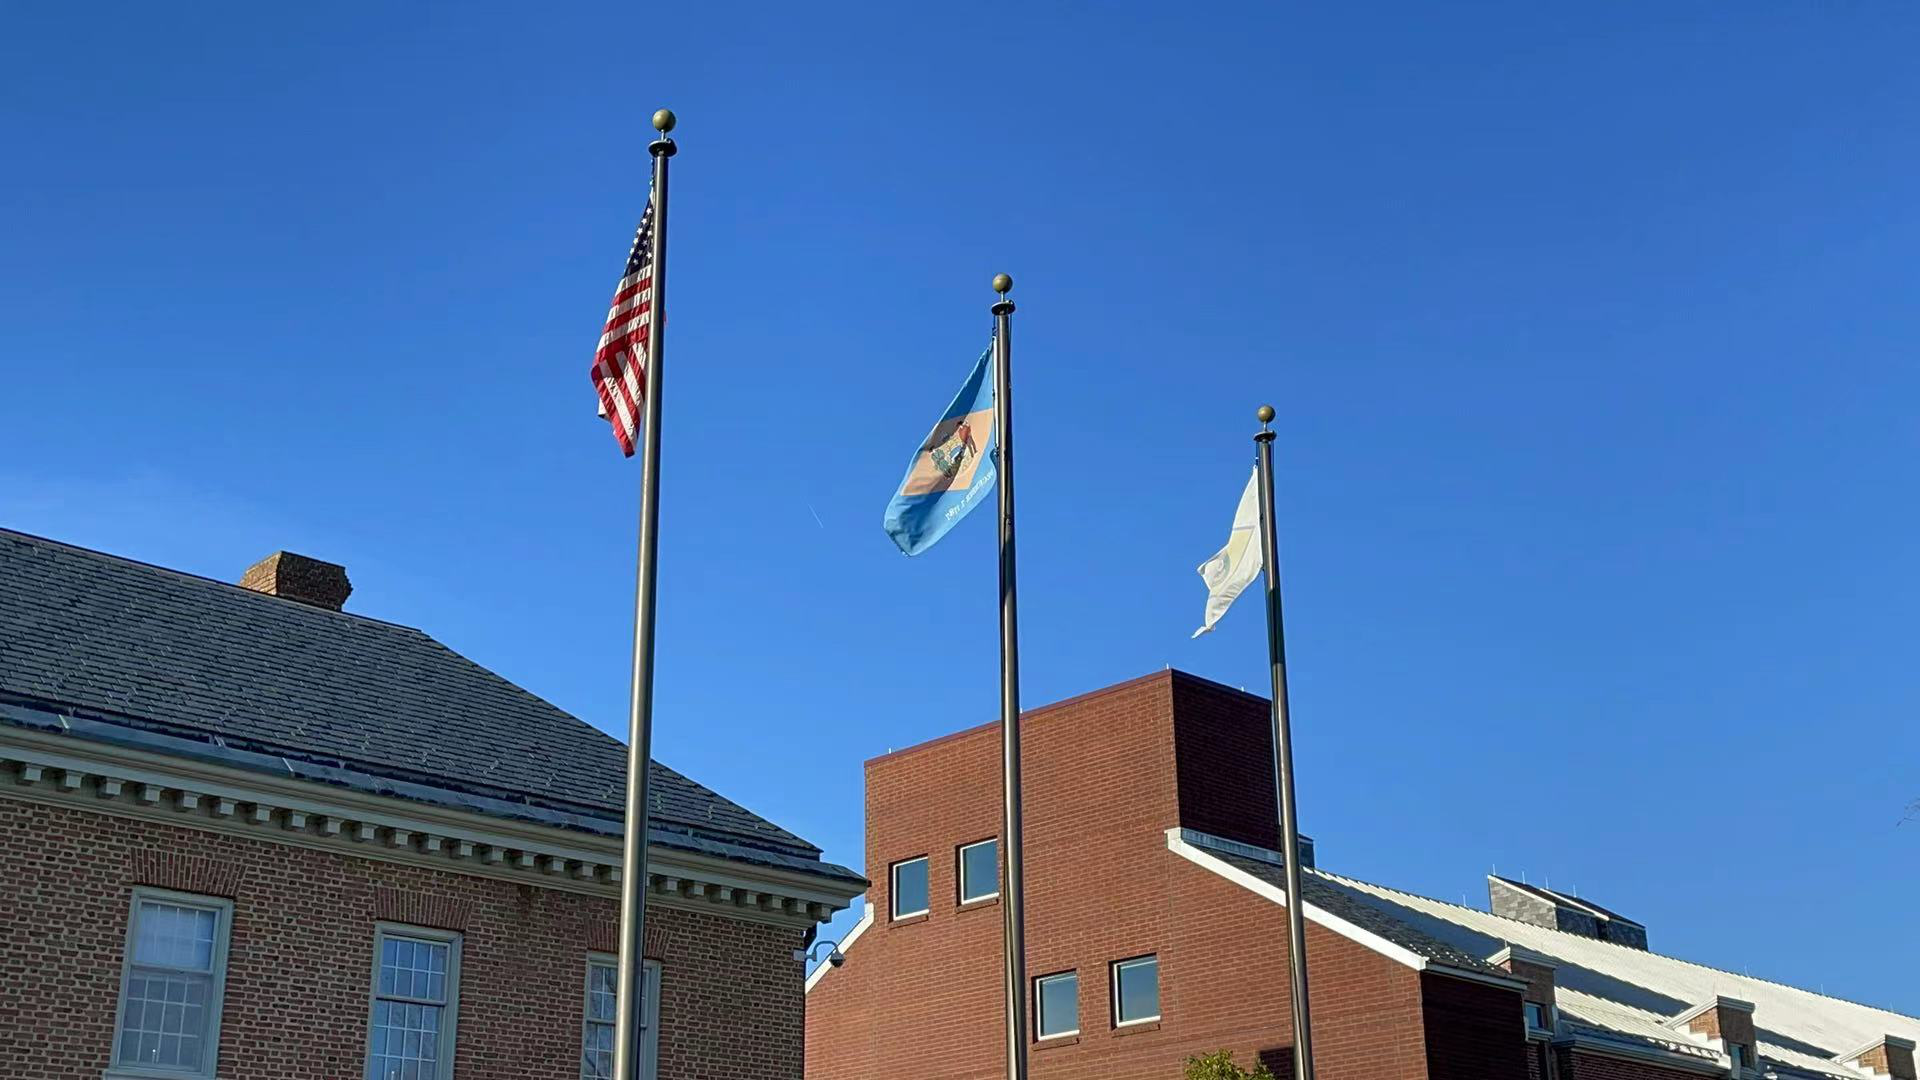America flag: (582, 171, 667, 462)
Delaware flag: (878, 324, 1011, 563)
